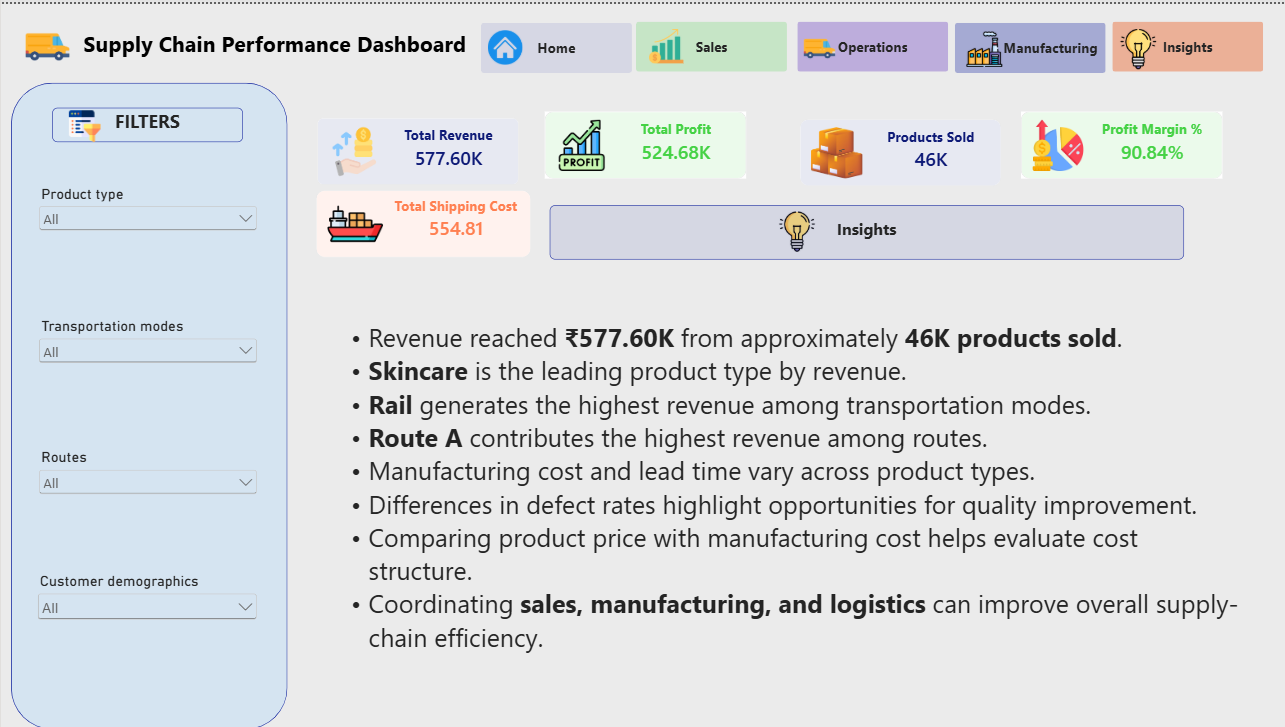

What the dashboard file says about the page in this screenshot:
{"tool":"powerbi","page":{"name":"Page 1","canvas":[1920,1080],"ordinal":0},"visuals":[{"type":"textbox","box":[449.4,883.2,1441.6,176.6],"z":0,"group":"g1"},{"type":"cardVisual","title":" Card","fields":{"Data":["supply_chain_cleaned.Total Revenue"]},"box":[470.1,168.8,300,100.9],"z":1000},{"type":"columnChart","title":"Revenue by Product Type","fields":{"Category":["supply_chain_cleaned.Product type"],"Y":["supply_chain_cleaned.Total Revenue"]},"box":[470.2,449.4,605.2,397.4],"z":1000,"group":"g1"},{"type":"columnChart","title":"Products Sold by Product Type","fields":{"Category":["supply_chain_cleaned.Product type"],"Y":["Sum(supply_chain_cleaned.Number of products sold)"]},"box":[1109.2,449.4,711.7,397.4],"z":2000,"group":"g1"},{"type":"cardVisual","title":"Card","fields":{"Data":["supply_chain_cleaned.Total Products Sold"]},"box":[1189.6,171.4,300,100],"z":3000},{"type":"textbox","box":[26.8,0,763.6,100.9],"z":7000},{"type":"shape","box":[14.4,117.3,411.7,963.3],"z":8000},{"type":"slicer","fields":{"Values":["supply_chain_cleaned.Product type"]},"box":[52.2,269.6,333.4,123.5],"z":9000},{"type":"slicer","fields":{"Values":["supply_chain_cleaned.Transportation modes"]},"box":[52.2,466.6,333.4,123.5],"z":10000},{"type":"slicer","fields":{"Values":["supply_chain_cleaned.Routes"]},"box":[52.2,663.5,333.4,111.1],"z":11000},{"type":"slicer","fields":{"Values":["supply_chain_cleaned.Customer demographics"]},"box":[51.2,848,335.5,105],"z":12000},{"type":"image","box":[14.4,28.8,109.1,72],"z":13000},{"type":"actionButton","box":[715.4,27.5,225,75],"z":14000},{"type":"actionButton","box":[946.5,25.7,225,75],"z":15000},{"type":"actionButton","box":[1186.8,25.7,225,75],"z":16000},{"type":"actionButton","box":[1654.5,25.7,225,75],"z":17000},{"type":"image","box":[715.4,38.5,72,51.5],"z":18000},{"type":"textbox","box":[76.2,154.4,284,51.5],"z":19000},{"type":"image","box":[92.6,158.5,63.8,47.3],"z":20000},{"type":"image","box":[959.3,36.7,63.8,51.5],"z":21000},{"type":"image","box":[1188.6,40.4,62.4,51.4],"z":22000},{"type":"image","box":[1654.6,36.4,77.9,59.7],"z":23000},{"type":"actionButton","box":[1421.5,27.5,225,75],"z":25000},{"type":"image","box":[1436.2,40.4,58.7,53.2],"z":26000},{"type":"cardVisual","fields":{"Data":["supply_chain_cleaned.Avg Manufacturing Lead Time"]},"box":[470.1,298.7,420.8,109.1],"z":27000},{"type":"cardVisual","fields":{"Data":["supply_chain_cleaned.Avg Defect Rate"]},"box":[914.3,298.7,420.8,109.1],"z":28000},{"type":"cardVisual","fields":{"Data":["Count(supply_chain_cleaned.SKU)"]},"box":[1535.1,171.4,311.7,96.1],"z":29000},{"type":"cardVisual","fields":{"Data":["supply_chain_cleaned.Avg Shipping Time"]},"box":[828.6,171.4,348.1,98.7],"z":31000},{"type":"group","id":"g1","title":"Home","box":[449.4,449.4,1441.6,610.4],"z":32000}]}

Visuals, with their boxes in screenshot pixels (x1, y1, x2, y2), scaled from the page's 1920x1080 canvas onto the 1285x727 screenshot:
textbox: <box>301,595,1266,713</box>
" Card" cardVisual: <box>315,114,515,182</box>
"Revenue by Product Type" columnChart: <box>315,303,720,570</box>
"Products Sold by Product Type" columnChart: <box>742,303,1219,570</box>
"Card" cardVisual: <box>796,115,997,183</box>
textbox: <box>18,0,529,68</box>
shape: <box>10,79,285,726</box>
slicer - supply_chain_cleaned.Product type: <box>35,181,258,265</box>
slicer - supply_chain_cleaned.Transportation modes: <box>35,314,258,397</box>
slicer - supply_chain_cleaned.Routes: <box>35,447,258,521</box>
slicer - supply_chain_cleaned.Customer demographics: <box>34,571,259,642</box>
image: <box>10,19,83,68</box>
actionButton: <box>479,19,629,69</box>
actionButton: <box>633,17,784,68</box>
actionButton: <box>794,17,945,68</box>
actionButton: <box>1107,17,1258,68</box>
image: <box>479,26,527,61</box>
textbox: <box>51,104,241,139</box>
image: <box>62,107,105,139</box>
image: <box>642,25,685,59</box>
image: <box>795,27,837,62</box>
image: <box>1107,25,1160,65</box>
actionButton: <box>951,19,1102,69</box>
image: <box>961,27,1000,63</box>
cardVisual - supply_chain_cleaned.Avg Manufacturing Lead Time: <box>315,201,596,275</box>
cardVisual - supply_chain_cleaned.Avg Defect Rate: <box>612,201,894,275</box>
cardVisual - Count(supply_chain_cleaned.SKU): <box>1027,115,1236,180</box>
cardVisual - supply_chain_cleaned.Avg Shipping Time: <box>555,115,788,182</box>
"Home" group: <box>301,303,1266,713</box>
